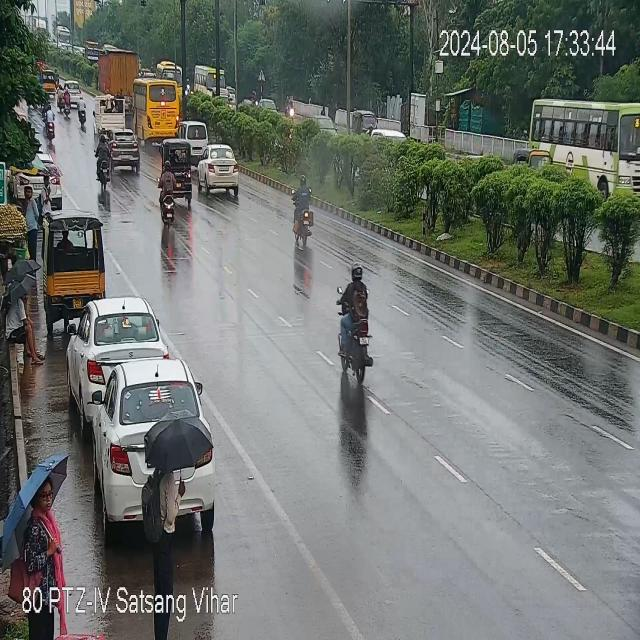2-wheelers: (335, 267, 379, 388), (284, 177, 320, 248), (160, 161, 174, 231), (96, 135, 110, 190), (56, 84, 72, 115), (44, 104, 55, 141), (79, 95, 87, 130)
auto: (43, 212, 109, 315), (132, 73, 182, 141), (164, 137, 193, 204), (41, 70, 56, 94)
bus: (523, 96, 640, 205)
car: (91, 363, 204, 481), (69, 300, 163, 404), (14, 155, 70, 208), (195, 141, 242, 199), (110, 130, 140, 174), (178, 122, 210, 156), (70, 80, 80, 101)
pedestrian: (136, 418, 187, 585), (26, 466, 64, 580), (4, 282, 46, 369), (24, 180, 38, 260), (41, 174, 52, 210)
truck: (98, 48, 140, 100), (93, 86, 126, 130)
